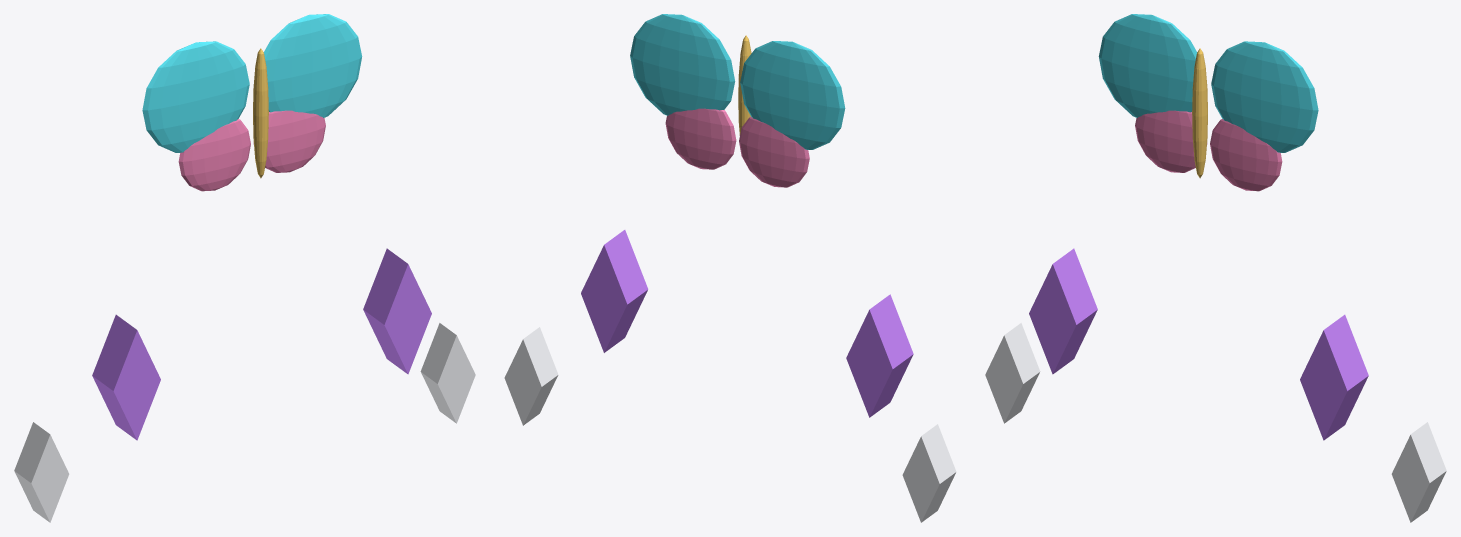
File: crystal-butterfly.glb
3 renders of one model, left to right at view 1: azimuth 30°, elevation 25°; view 2: azimuth 150°, elevation 25°; view 3: azimuth 330°, elevation 25°, orthographic. The views are drawn at different scales.
Visible parts, largest first — view 1: upper wing (×2), crystal cheek (×2), lower wing (×2), crystal drop (×2), butterfly body; view 2: upper wing (×2), crystal cheek (×2), lower wing (×2), crystal drop (×2), butterfly body; view 3: upper wing (×2), crystal cheek (×2), lower wing (×2), crystal drop (×2), butterfly body.
Part boxes in pixels (bbox=[...]): upper wing (×2): bbox=[142, 14, 362, 152]; crystal cheek (×2): bbox=[92, 248, 431, 440]; lower wing (×2): bbox=[178, 110, 325, 191]; crystal drop (×2): bbox=[14, 323, 475, 522]; butterfly body: bbox=[253, 48, 268, 178]; upper wing (×2): bbox=[630, 14, 845, 149]; crystal cheek (×2): bbox=[581, 230, 913, 417]; lower wing (×2): bbox=[665, 108, 809, 187]; crystal drop (×2): bbox=[504, 327, 956, 522]; butterfly body: bbox=[738, 35, 751, 135]; upper wing (×2): bbox=[1098, 14, 1318, 152]; crystal cheek (×2): bbox=[1029, 248, 1368, 440]; lower wing (×2): bbox=[1135, 110, 1282, 191]; crystal drop (×2): bbox=[985, 323, 1446, 522]; butterfly body: bbox=[1192, 48, 1207, 178].
Bounding box in the file's own units: 2.1 × 2 × 0.2975.
